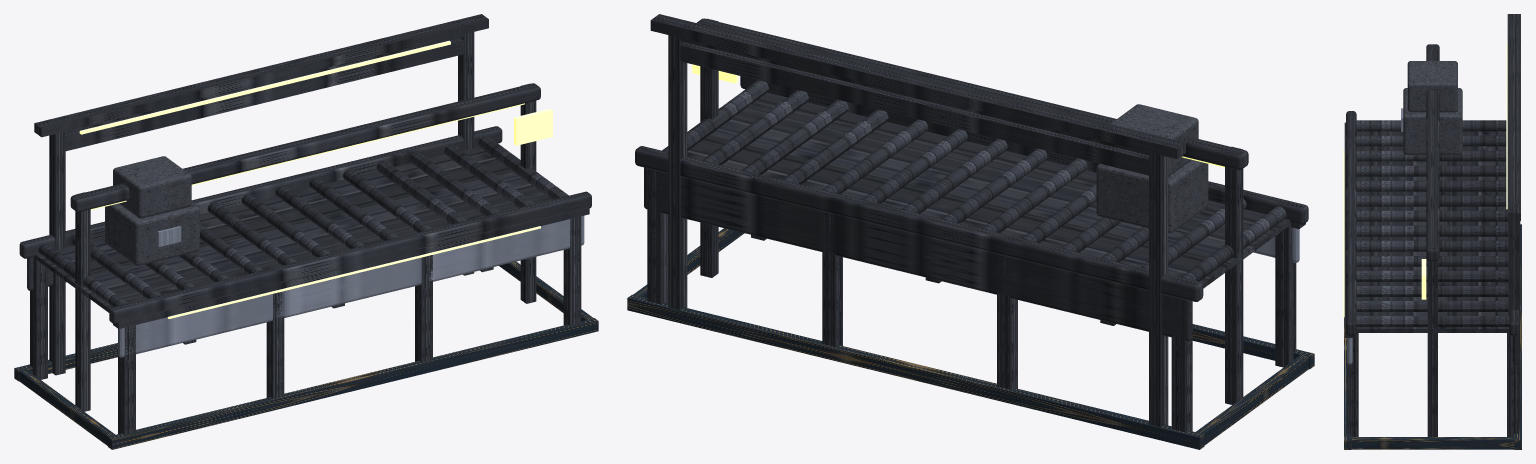
Rendered from warehouse_receiving.glb.
3 views of the same model, side by side, from view 1: azimuth 30°, elevation 25°; view 2: azimuth 150°, elevation 25°; view 3: azimuth 270°, elevation 25° (orthographic). The views are drawn at different scales.
Parts seen in each view (by area): view 1: sight_shell, bed, skirt0, rail0, gbeam, shelltoe0, rail2, box0, shellrim0, box1, gpost0, legR0 (+26 smaller); view 2: sight_shell, bed, skirt2, rail2, shelltoe2, box0, gpost0, gbeam, rail0, legL0, legR3, legR0 (+21 smaller); view 3: bed, sight_shell, gbeam, rail0, box1, box0, shelltoes2, gpost2, roller7, roller8, roller6, roller10 (+19 smaller).
Part boxes in pixels (bbox=[...]): sight_shell: bbox=[34, 14, 488, 375]; bed: bbox=[35, 146, 551, 312]; skirt0: bbox=[118, 215, 584, 357]; rail0: bbox=[109, 191, 591, 324]; gbeam: bbox=[70, 83, 540, 211]; shelltoe0: bbox=[108, 318, 598, 449]; rail2: bbox=[19, 126, 502, 258]; box0: bbox=[105, 203, 199, 265]; shellrim0: bbox=[114, 207, 589, 328]; box1: bbox=[113, 156, 191, 218]; gpost0: bbox=[75, 192, 90, 411]; legR0: bbox=[30, 256, 47, 379]; sight_shell: bbox=[650, 14, 1185, 427]; bed: bbox=[687, 92, 1290, 288]; skirt2: bbox=[644, 167, 1192, 341]; rail2: bbox=[635, 146, 1203, 301]; shelltoe2: bbox=[627, 294, 1204, 449]; box0: bbox=[1096, 160, 1208, 233]; gpost0: bbox=[1225, 146, 1243, 404]; gbeam: bbox=[697, 18, 1248, 169]; rail0: bbox=[740, 76, 1308, 224]; legL0: bbox=[1275, 223, 1296, 367]; legR3: bbox=[647, 169, 668, 304]; legR0: bbox=[1171, 297, 1192, 432]; bed: bbox=[1356, 131, 1509, 332]; sight_shell: bbox=[1507, 14, 1520, 425]; gbeam: bbox=[1426, 44, 1439, 261]; rail0: bbox=[1346, 111, 1356, 335]; box1: bbox=[1407, 61, 1457, 112]; box0: bbox=[1403, 88, 1462, 154]; shelltoes2: bbox=[1349, 437, 1516, 449]; gpost2: bbox=[1427, 243, 1437, 436]; roller7: bbox=[1356, 225, 1508, 236]; roller8: bbox=[1356, 240, 1508, 251]; roller6: bbox=[1356, 210, 1508, 221]; roller10: bbox=[1356, 270, 1508, 281].
Bounding box in the file's own units: 3.45 × 1.7 × 1.21.
8 materials, 6 textured.
